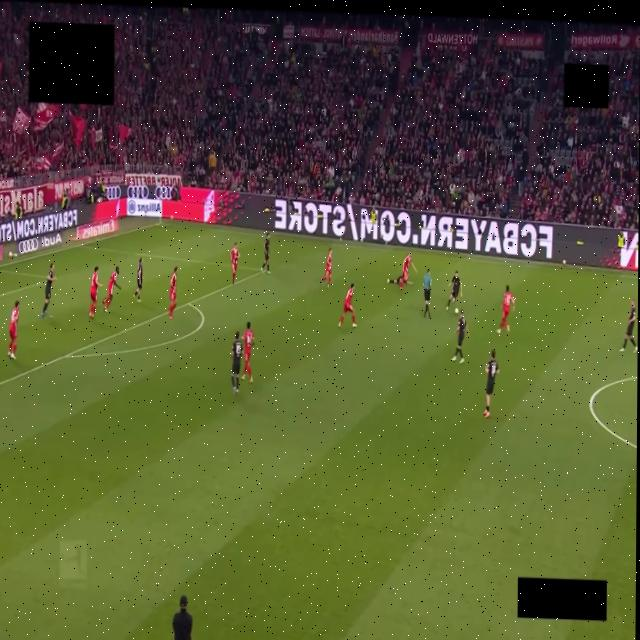ball: (454, 308, 458, 314)
player: (388, 253, 416, 290), (483, 350, 498, 417), (620, 300, 637, 352), (496, 286, 514, 334), (339, 283, 357, 327), (103, 266, 120, 312), (451, 310, 466, 362), (42, 265, 56, 318), (243, 322, 255, 382), (232, 332, 243, 394), (89, 267, 102, 318), (8, 300, 19, 359), (445, 271, 460, 309), (321, 248, 332, 287), (170, 266, 178, 318), (134, 258, 143, 301), (231, 243, 240, 283), (261, 233, 270, 272)
referee: (423, 269, 430, 317)
